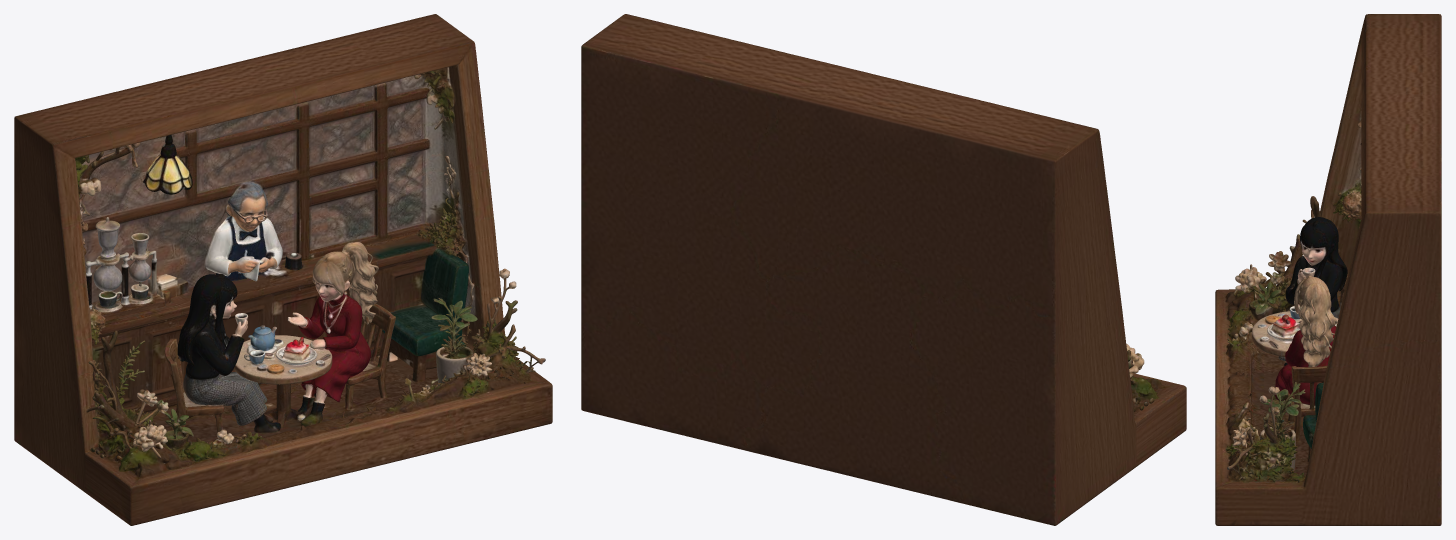
File: cafe_oneshot.glb
3 views of the same model, side by side, from view 1: azimuth 30°, elevation 25°; view 2: azimuth 150°, elevation 25°; view 3: azimuth 270°, elevation 25° (orthographic). The views are drawn at different scales.
Size of the model in its own units: 1.9 by 1.4 by 0.9124.
Materials: 1 (1 with a texture image).
